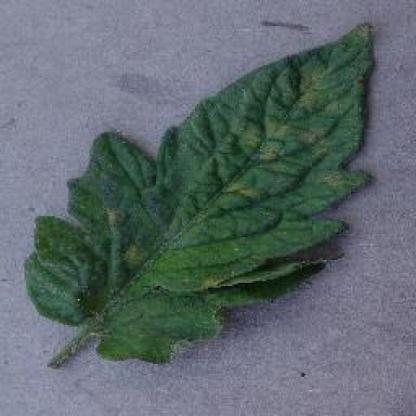Tomato_Leaf_Mold: (27, 23, 376, 336)
